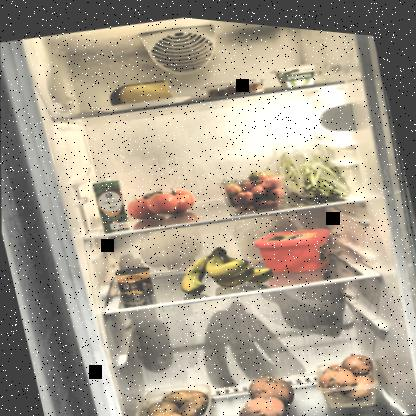banana: (171, 226, 277, 299)
butter: (250, 212, 340, 279)
cheese: (105, 68, 177, 114)
corn: (114, 260, 155, 300)
green_beans: (272, 124, 353, 206)
heavy_cream: (89, 170, 130, 232)
onion: (309, 338, 384, 411)
potato: (134, 374, 217, 415)
shrimp: (204, 71, 269, 101)
strawberries: (216, 152, 293, 216)
sweet_potato: (223, 355, 307, 415)
tomato: (122, 175, 201, 225)
